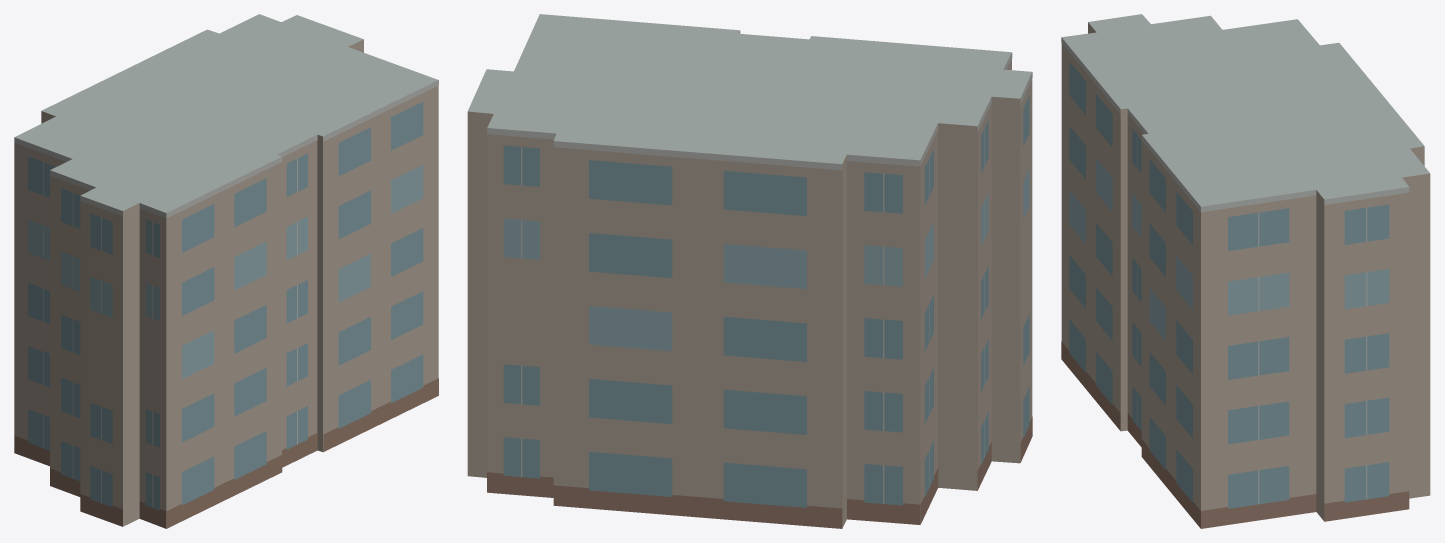
File: survey-upis-32921705.glb
3 renders of one model, left to right at view 1: azimuth 30°, elevation 25°; view 2: azimuth 150°, elevation 25°; view 3: azimuth 270°, elevation 25°, orthographic. The views are drawn at different scales.
Visible parts, largest first — view 1: survey-upis-32921705.tmp; view 2: survey-upis-32921705.tmp; view 3: survey-upis-32921705.tmp.
Part boxes in pixels (bbox=[...]): survey-upis-32921705.tmp: bbox=[14, 14, 438, 528]; survey-upis-32921705.tmp: bbox=[467, 14, 1032, 528]; survey-upis-32921705.tmp: bbox=[1061, 14, 1430, 528].
Size of the model in its own units: 18.36 by 14.3 by 14.85.
